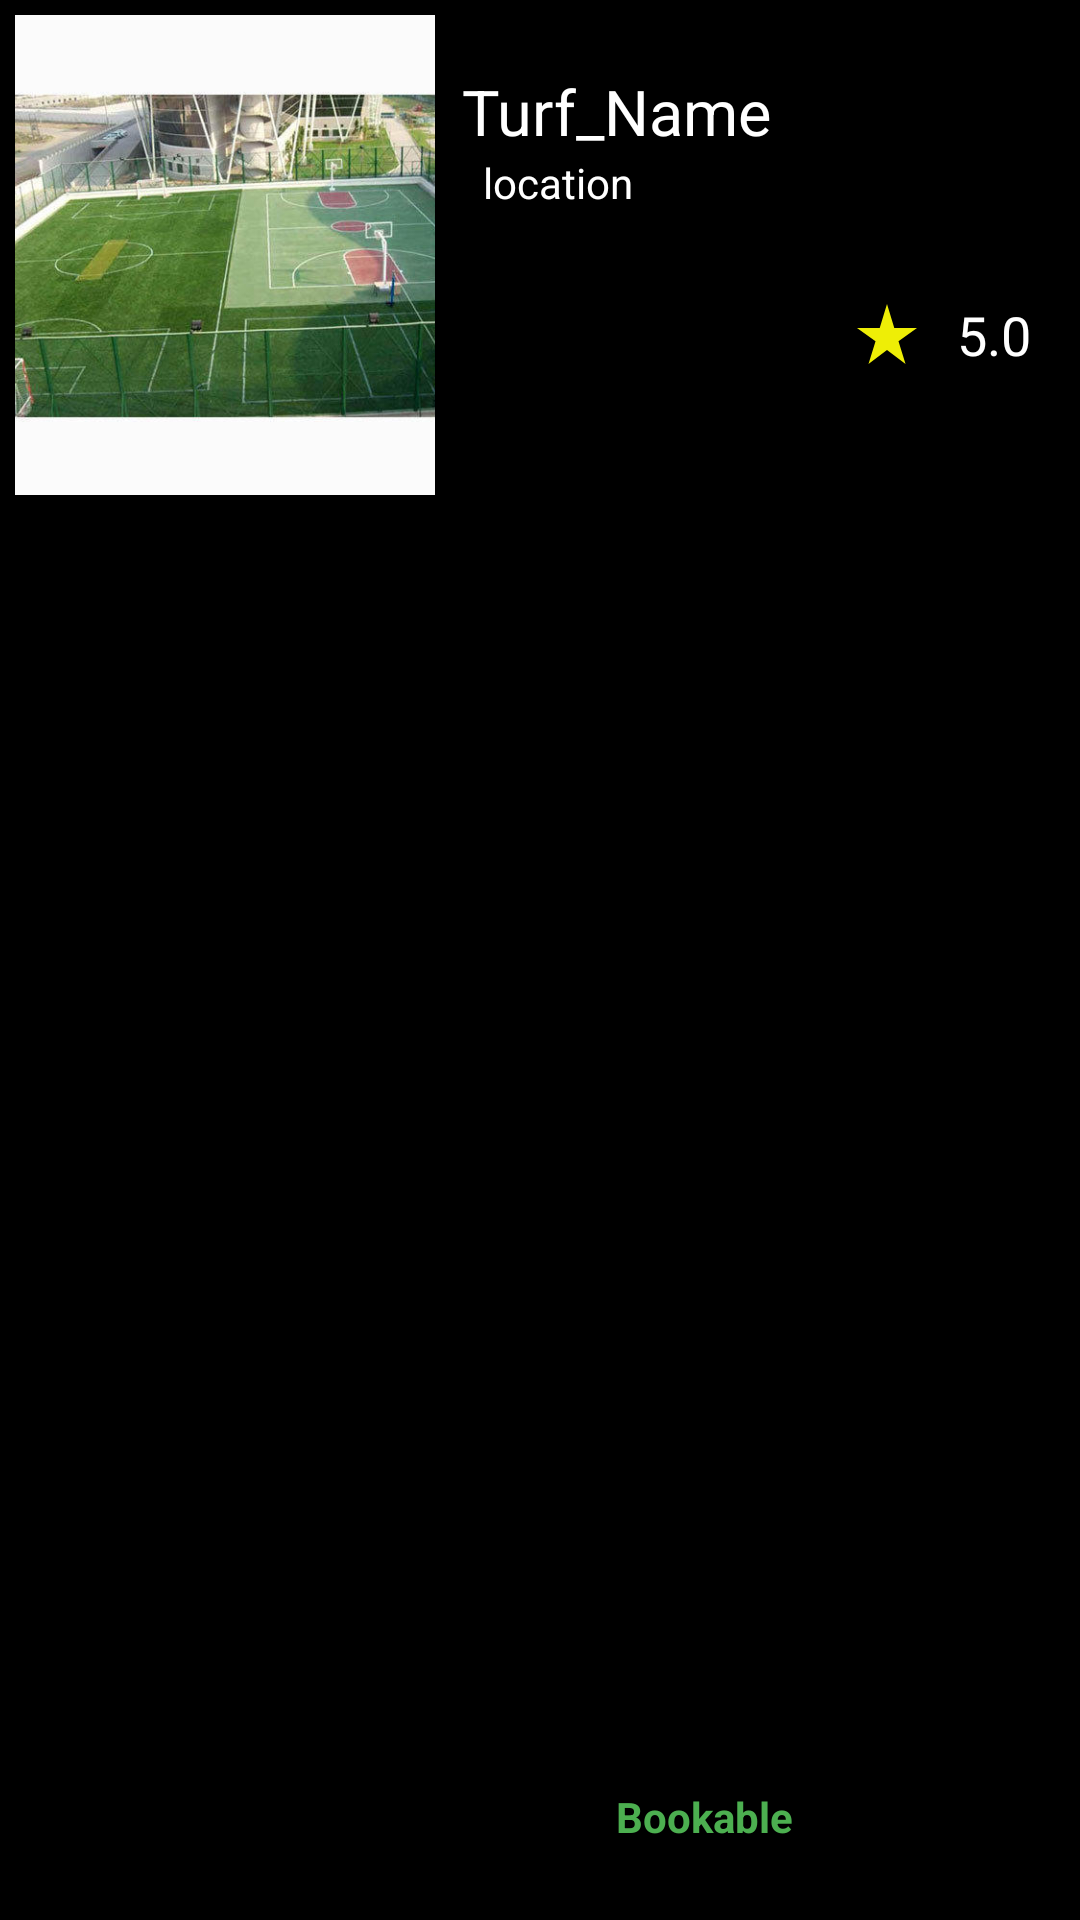

Where icons sit on this 1080px x 1920px app screen, as (x1, y1, x2, y2):
star rate: (857, 304, 917, 364)
